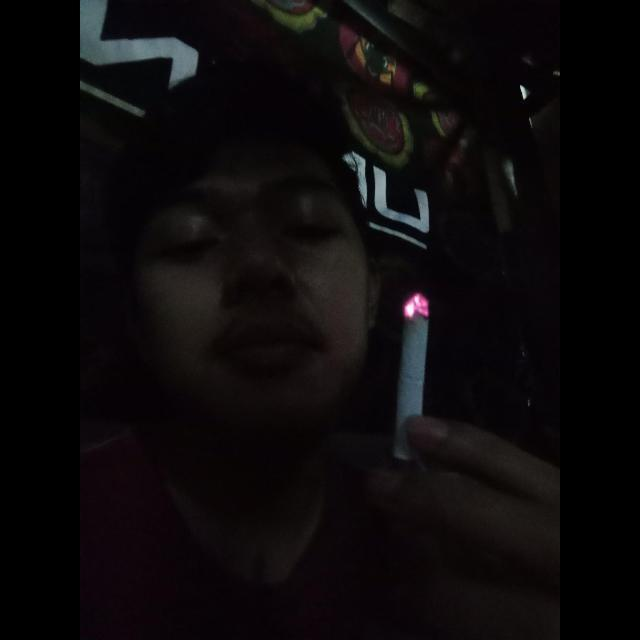rokok: (392, 289, 436, 463)
